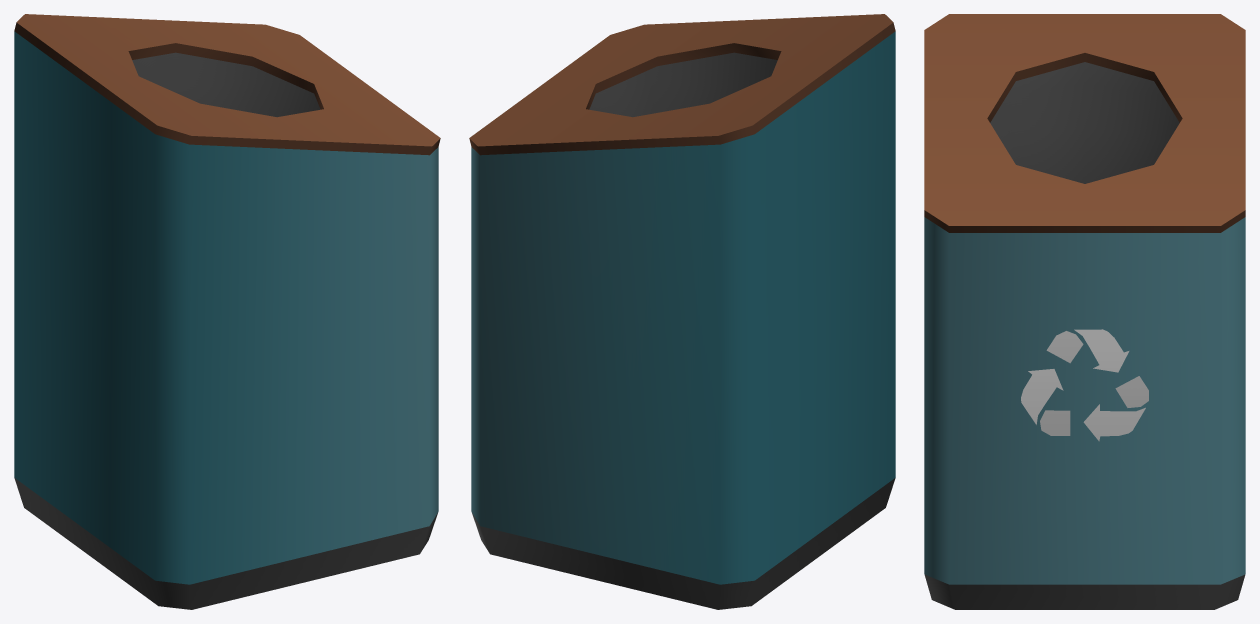
File: CR_RecycleBin_001.FBX
3 renders of one model, left to right at view 1: azimuth 30°, elevation 25°; view 2: azimuth 150°, elevation 25°; view 3: azimuth 270°, elevation 25°, orthographic. The views are drawn at different scales.
Parts seen in each view (by area): view 1: CR_RecycleBin_001; view 2: CR_RecycleBin_001; view 3: CR_RecycleBin_001.
Part boxes in pixels (x1,y1,x2,y2): CR_RecycleBin_001: (14,14,440,609); CR_RecycleBin_001: (469,14,895,609); CR_RecycleBin_001: (924,14,1245,609).
Bounding box in the file's own units: 16.27 × 26.01 × 16.22.
